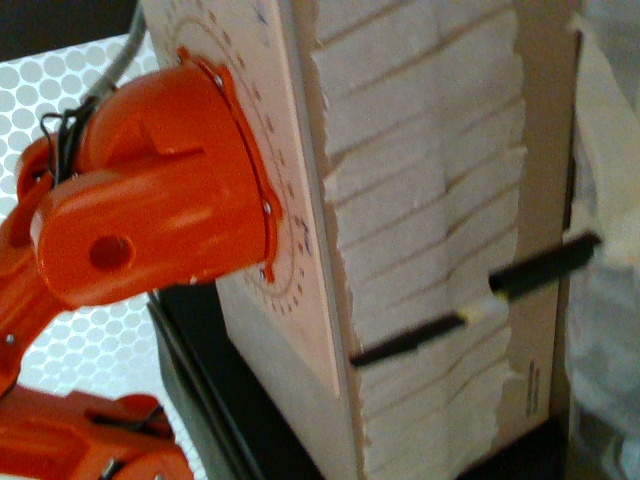test_strip: (348, 292, 516, 369)
